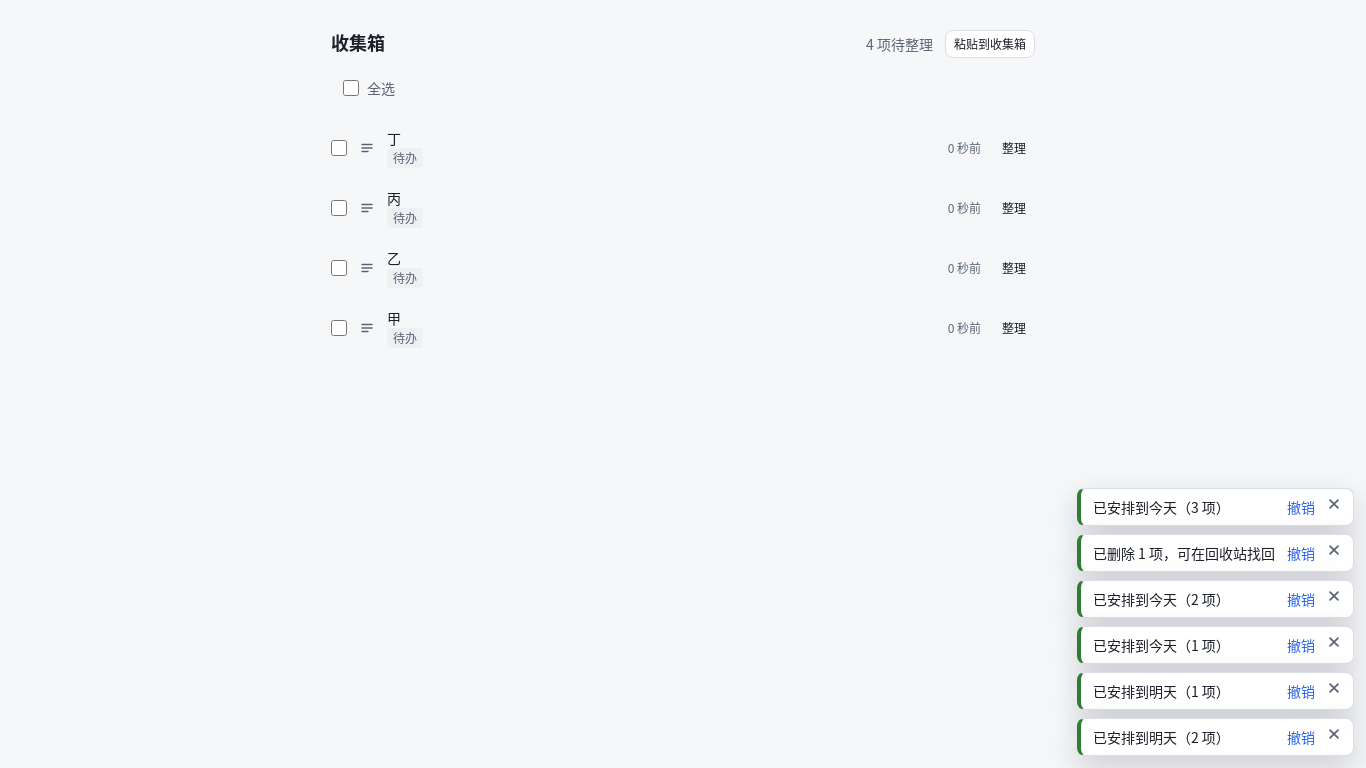
Scenario: InboxPage › Shift 点击选中一整段
This screenshot has width=1366, height=768.
Expected: the text "甲" is shown, left=387, top=308, right=401, bottom=328
Note: 列表从新到旧：丁、丙、乙、甲。
Click the checkbox named "选择：丁": (339, 148) left=331, top=140, right=347, bottom=156
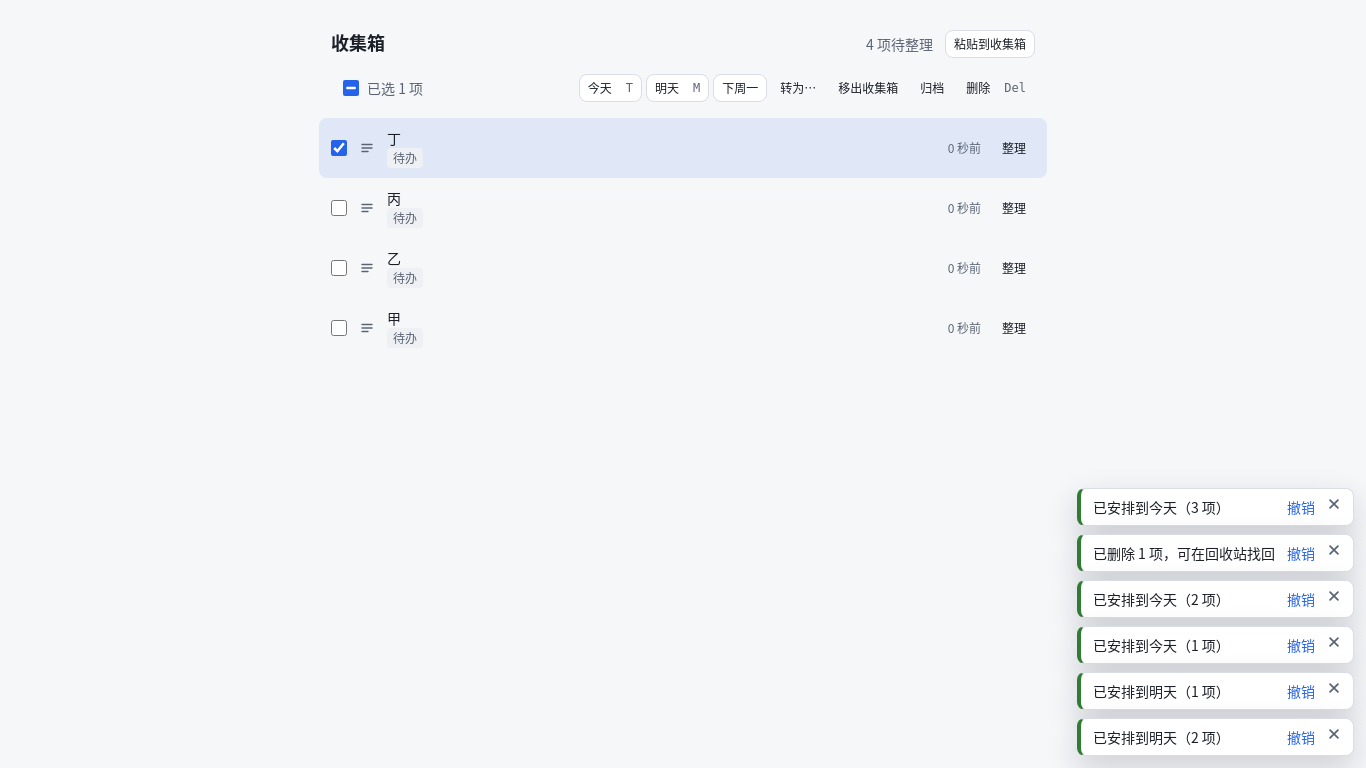
Click the checkbox named "选择：乙": (339, 268) left=331, top=260, right=347, bottom=276
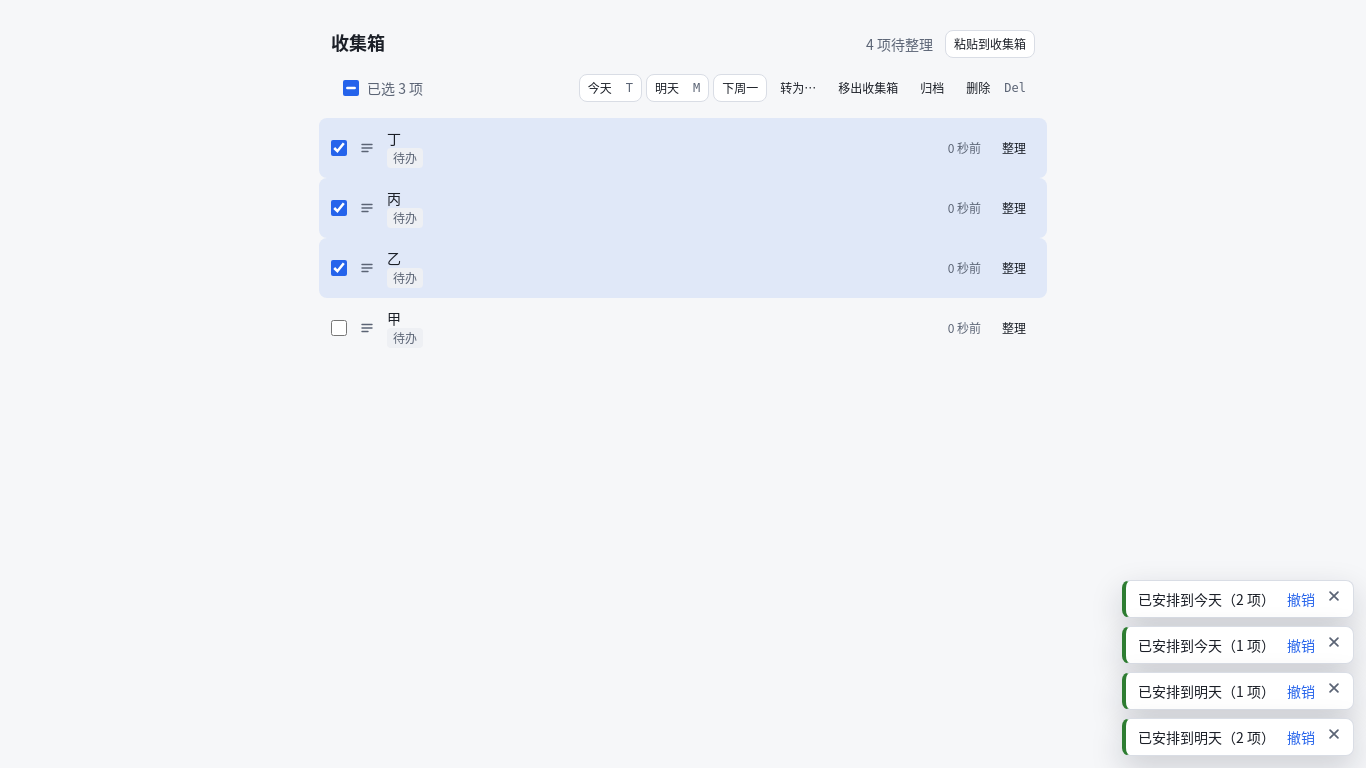
Expected: the text "已选 3 项" is shown, left=331, top=78, right=423, bottom=98
